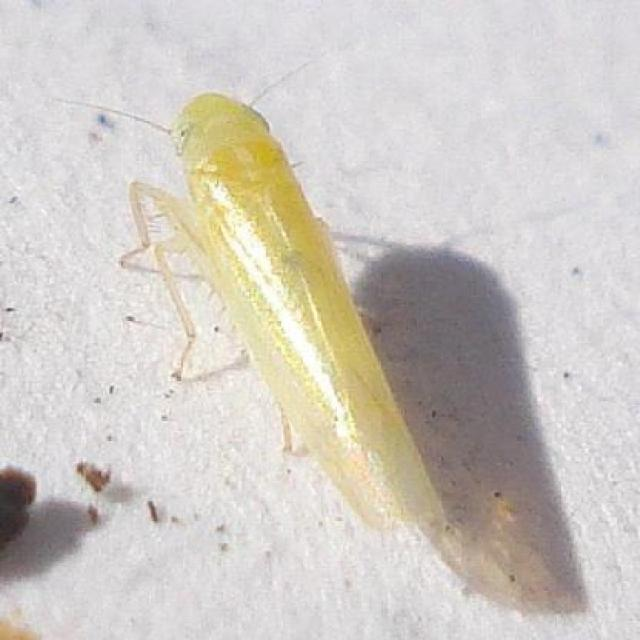green-leafhopper: (117, 91, 448, 533)
